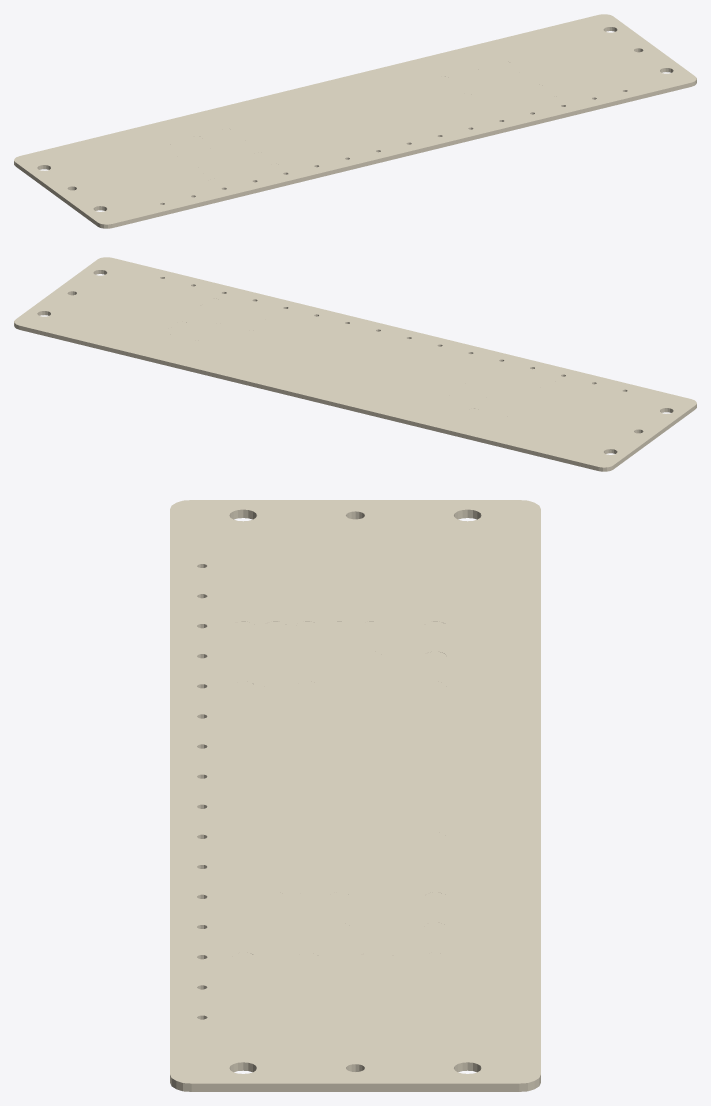
Rendered from cards.glb.
The picture shows the model from 3 angles, top to bottom: view 1: azimuth 30°, elevation 25°; view 2: azimuth 150°, elevation 25°; view 3: azimuth 270°, elevation 25°; orthographic projection. The views are drawn at different scales.
Visible parts, largest first — view 1: Card_7, Card_0, Card_2, Card_4, Card_1, Card_3, Card_6, Card_5; view 2: Card_7, Card_0, Card_2, Card_4, Card_1, Card_3, Card_6, Card_5; view 3: Card_7, Card_0, Card_2, Card_4, Card_1, Card_3, Card_6, Card_5.
Part boxes in pixels (<box>): Card_7: <box>14,14,694,222</box>; Card_0: <box>14,14,696,228</box>; Card_2: <box>15,14,693,224</box>; Card_4: <box>15,26,685,224</box>; Card_1: <box>30,26,692,224</box>; Card_3: <box>73,16,693,220</box>; Card_6: <box>41,16,694,221</box>; Card_5: <box>18,44,634,221</box>; Card_7: <box>14,259,694,467</box>; Card_0: <box>14,257,696,471</box>; Card_2: <box>16,260,696,467</box>; Card_4: <box>32,261,693,462</box>; Card_1: <box>43,260,695,465</box>; Card_3: <box>16,257,691,432</box>; Card_6: <box>22,258,690,451</box>; Card_5: <box>47,297,684,445</box>; Card_7: <box>170,500,540,1083</box>; Card_0: <box>170,500,540,1091</box>; Card_2: <box>171,500,540,1083</box>; Card_4: <box>172,500,540,1078</box>; Card_1: <box>170,500,522,1083</box>; Card_3: <box>170,504,536,1083</box>; Card_6: <box>172,507,540,1082</box>; Card_5: <box>185,504,516,1071</box>.
Bounding box in the file's own units: 3.2 × 0.0225 × 0.8594.
